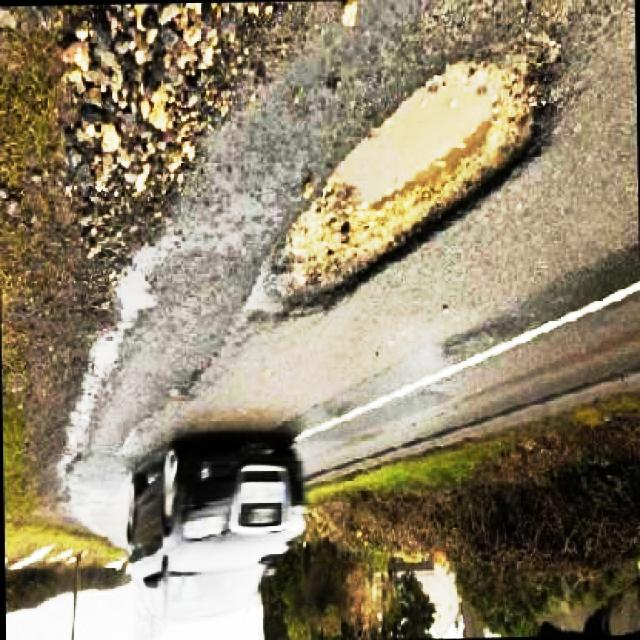pothole: (248, 40, 583, 329)
